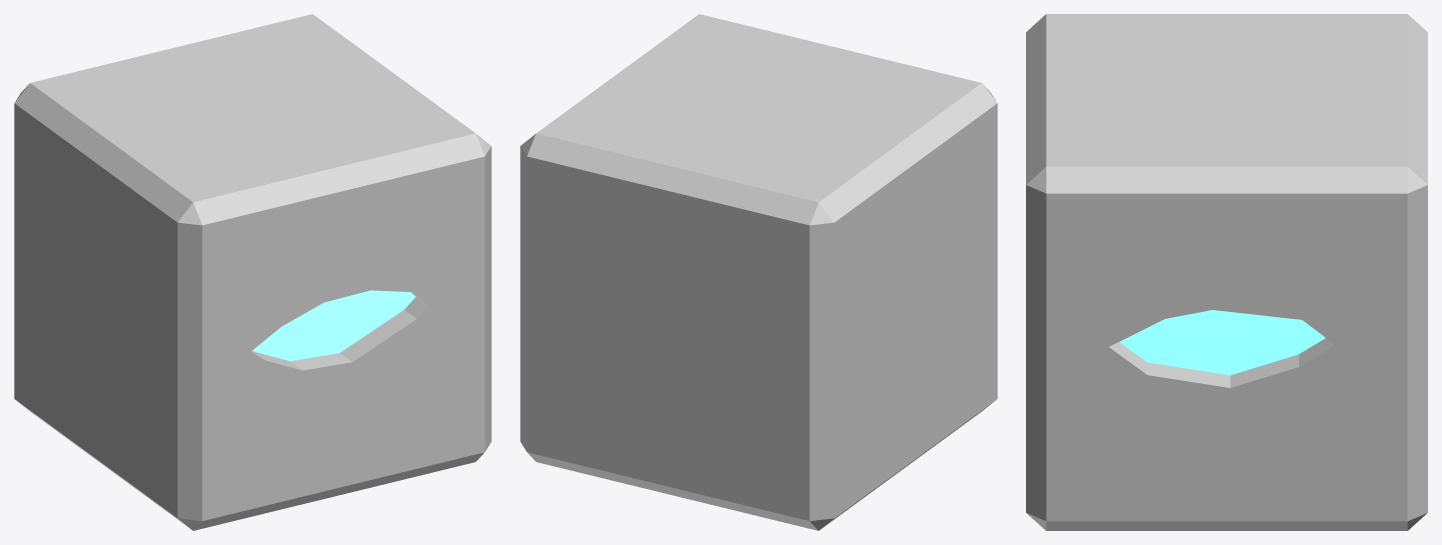
The model's file is Kupbukukdaire.fbx.
The picture shows the model from 3 angles, left to right: view 1: azimuth 30°, elevation 25°; view 2: azimuth 150°, elevation 25°; view 3: azimuth 270°, elevation 25°; orthographic projection. The views are drawn at different scales.
Visible parts, largest first — view 1: Cube.010; view 2: Cube.010; view 3: Cube.010.
Part boxes in pixels (x1,y1,x2,y2): Cube.010: [14, 14, 491, 530]; Cube.010: [520, 14, 997, 530]; Cube.010: [1026, 14, 1427, 530].
Size of the model in its own units: 119 by 119 by 119.
